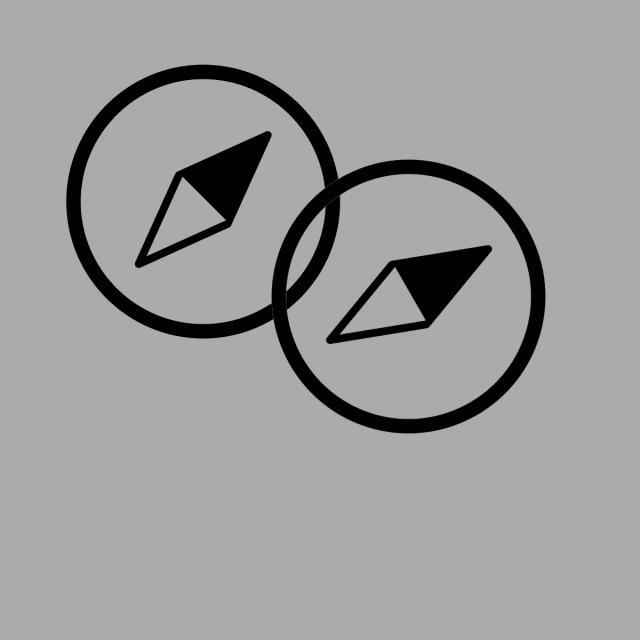compass: (262, 154, 550, 444), (61, 60, 348, 350)
